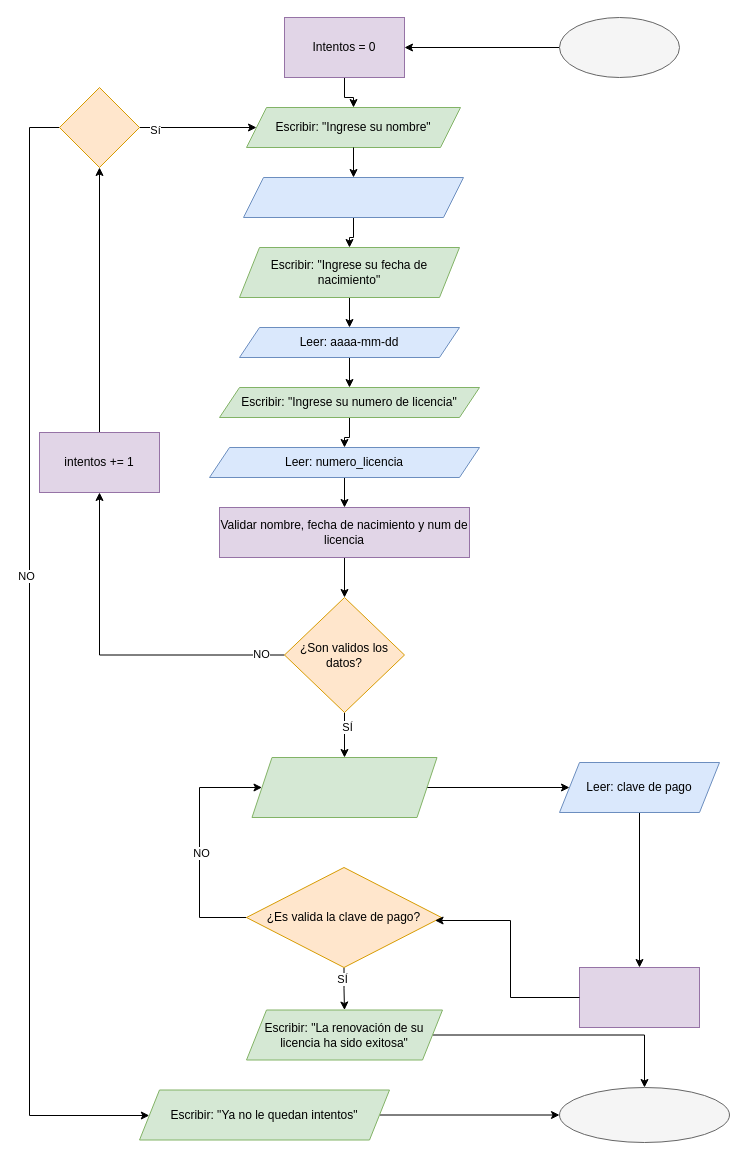
Some shapes in this 747 by 1160 pixel diagram are drawn without their labels. Each missing label, with the centre of its shape:
Escribir: "Ingrese la clave de pago: point (344, 787)
Fin: point (644, 1114)
Inicio: point (619, 47)
Leer: nombre: point (353, 197)
Verificar clave de pago: point (639, 997)
¿Quedan intentos?: point (99, 127)
